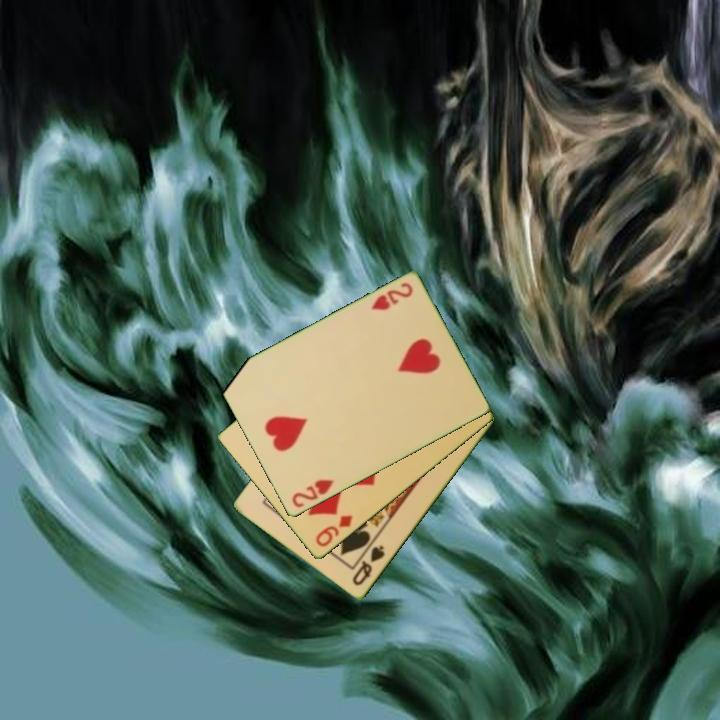2h: (288, 476, 337, 511), (367, 279, 416, 314)
9d: (312, 512, 355, 550)
Qs: (349, 542, 388, 589)
